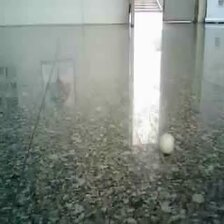w: (158, 132, 177, 155)
